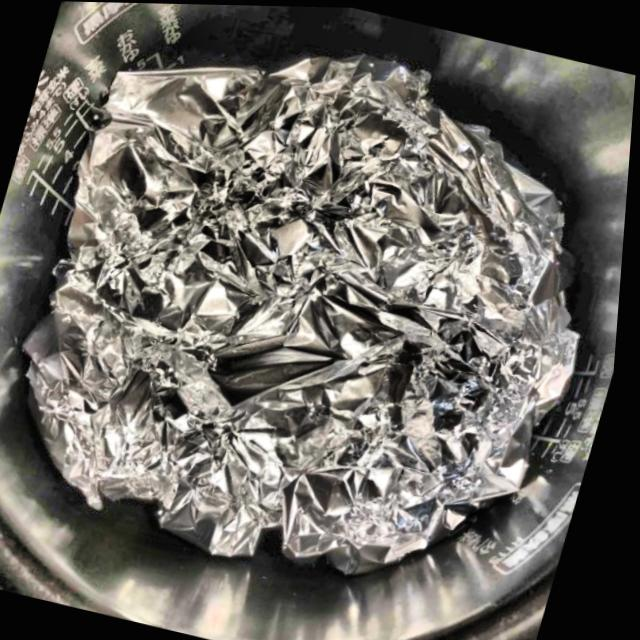Foil: (0, 0, 640, 628)
